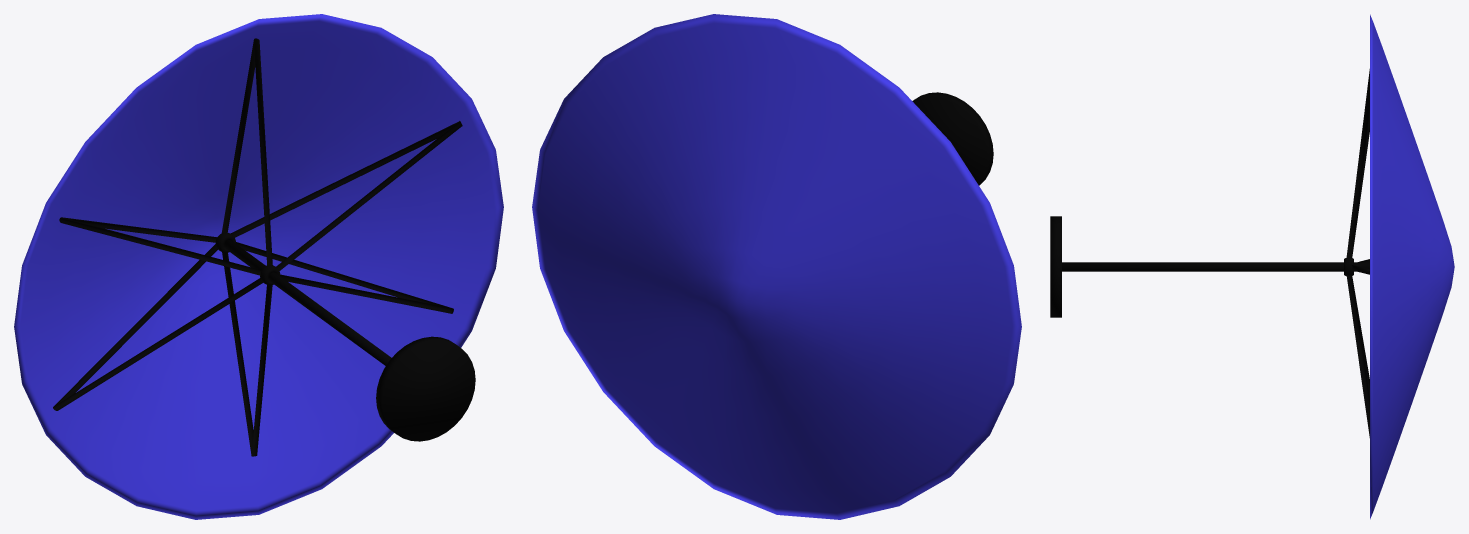
The model's file is Parasol_blue.fbx.
The picture shows the model from 3 angles, left to right: view 1: azimuth 30°, elevation 25°; view 2: azimuth 150°, elevation 25°; view 3: azimuth 270°, elevation 25°; orthographic projection. The views are drawn at different scales.
Parts seen in each view (by area): view 1: Torus.001; view 2: Torus.001; view 3: Torus.001.
Part boxes in pixels (bbox=[...]): Torus.001: bbox=[14, 14, 503, 519]; Torus.001: bbox=[532, 14, 1021, 519]; Torus.001: bbox=[1050, 14, 1454, 519].
Size of the model in its own units: 1110 by 1074 by 844.
